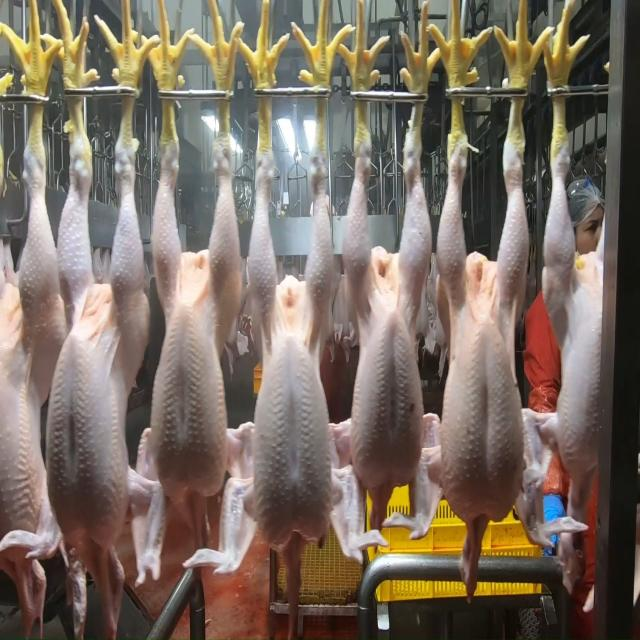chicken: (52, 127, 146, 560), (433, 131, 533, 535), (240, 169, 342, 543), (147, 136, 246, 508), (341, 108, 427, 500), (0, 133, 69, 562), (541, 136, 605, 477)
